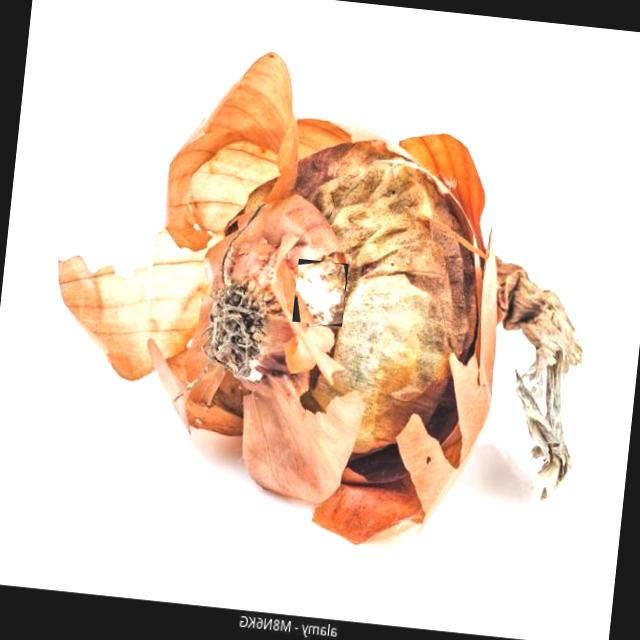rotten: (297, 262, 344, 324)
